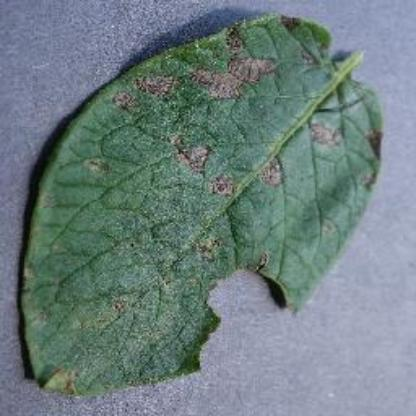Early-Blight: (17, 9, 390, 401)
